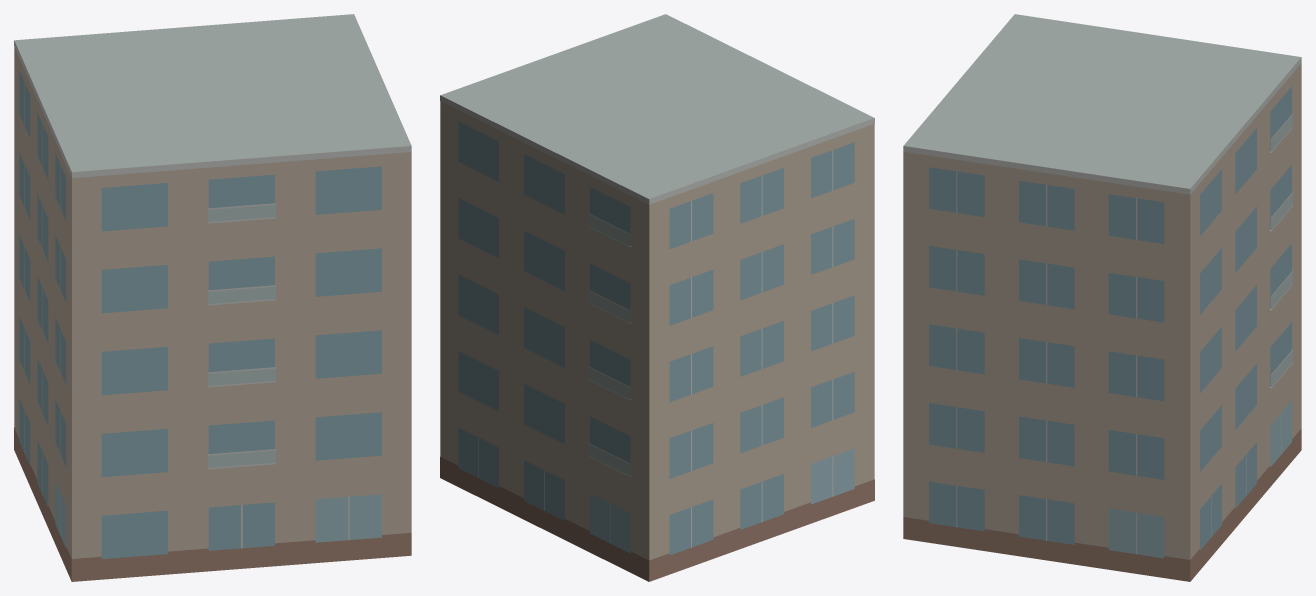
The model's file is survey-upis-32941675.glb.
The picture shows the model from 3 angles, left to right: view 1: azimuth 30°, elevation 25°; view 2: azimuth 150°, elevation 25°; view 3: azimuth 270°, elevation 25°; orthographic projection. The views are drawn at different scales.
Parts seen in each view (by area): view 1: survey-upis-32941675.tmp; view 2: survey-upis-32941675.tmp; view 3: survey-upis-32941675.tmp.
Boxes of the visible parts, x1,y1,x2,y2 form: survey-upis-32941675.tmp: [14, 14, 411, 581]; survey-upis-32941675.tmp: [440, 14, 874, 581]; survey-upis-32941675.tmp: [903, 14, 1301, 581].
Size of the model in its own units: 15.83 by 16.57 by 15.23.
